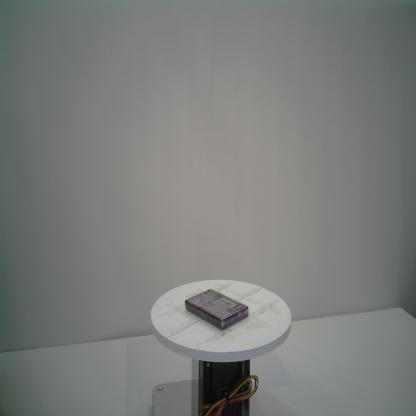Gum: (184, 287, 250, 332)
